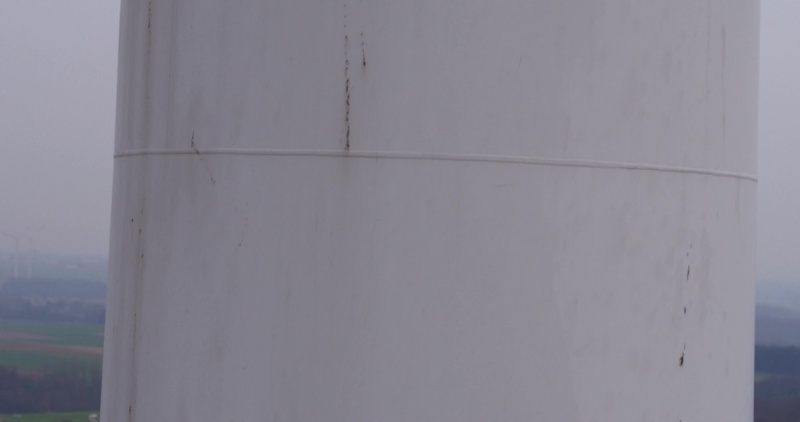weldseam: (111, 144, 762, 187)
